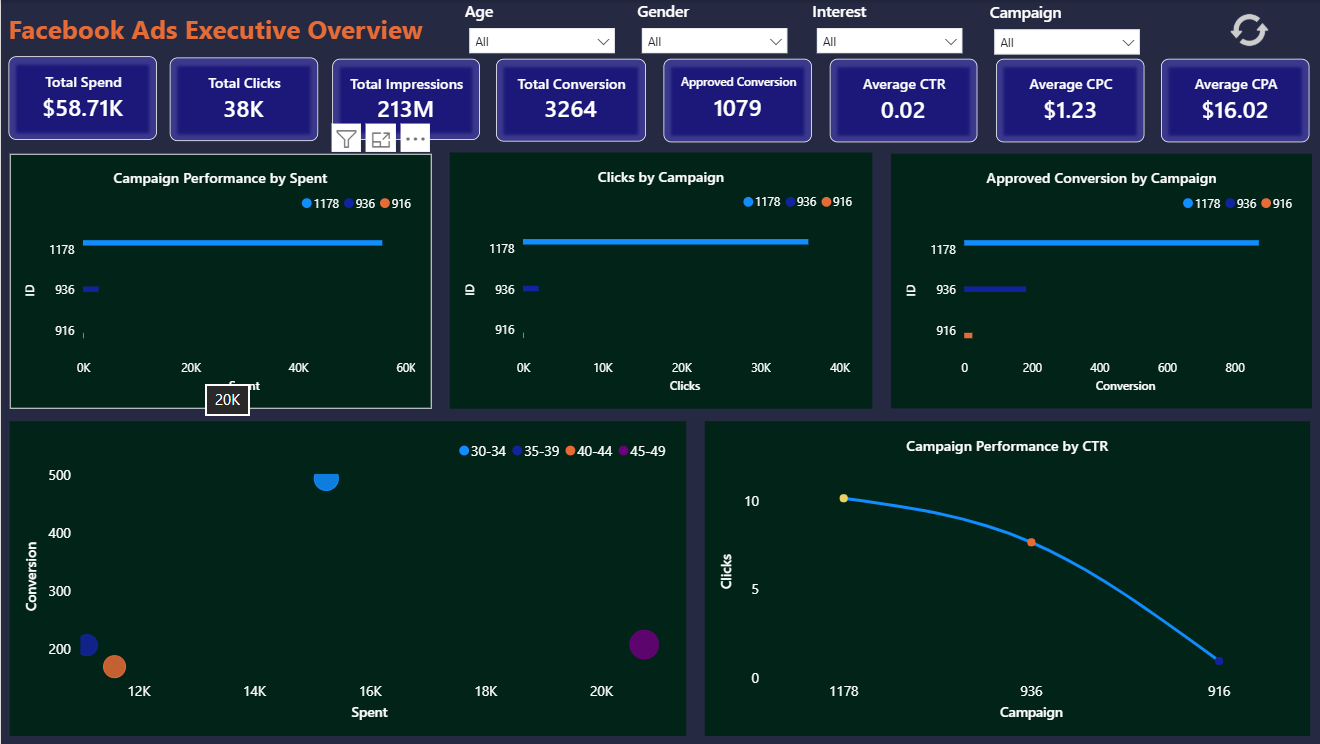

Layout of this report page (visuals, bound fields, positions):
{"tool":"powerbi","page":{"name":"Exceutive Overview","canvas":[1351,764],"ordinal":0},"visuals":[{"type":"card","title":"Total Spend","fields":{"Values":["facebook_ads_feature_engineered.Total Spend"]},"box":[7.7,57.9,152.3,85.8],"z":0},{"type":"card","title":"Approved Conversion","fields":{"Values":["facebook_ads_feature_engineered.Approved Conversions"]},"box":[678.5,60.4,152.3,85.8],"z":1000},{"type":"card","title":"Total Conversion","fields":{"Values":["facebook_ads_feature_engineered.Total Conversion"]},"box":[506.9,60.4,153.6,84.5],"z":2000},{"type":"card","title":"Average CTR","fields":{"Values":["facebook_ads_feature_engineered.Average CTR"]},"box":[848.8,60.4,151.1,85.8],"z":3000},{"type":"card","title":"Total Clicks","fields":{"Values":["facebook_ads_feature_engineered.Total Clicks"]},"box":[172.5,58.6,151.7,85.6],"z":4000},{"type":"card","title":"Total Impressions","fields":{"Values":["facebook_ads_feature_engineered.Total Impressions"]},"box":[339.2,60.4,151.1,83.2],"z":5000},{"type":"card","title":"Average CPC","fields":{"Values":["facebook_ads_feature_engineered.Average CPC"]},"box":[1019,60.4,152.3,85.8],"z":6000},{"type":"card","title":"Average CPA","fields":{"Values":["facebook_ads_feature_engineered.Average CPA"]},"box":[1188,60.4,152.3,85.8],"z":7000},{"type":"clusteredBarChart","title":"Campaign Performance by Spent","fields":{"Category":["facebook_ads_feature_engineered.xyz_campaign_id"],"Y":["Sum(facebook_ads_feature_engineered.spent)"],"Series":["facebook_ads_feature_engineered.xyz_campaign_id"]},"box":[9,157.7,431.4,261.2],"z":8000},{"type":"clusteredBarChart","title":"Clicks by Campaign","fields":{"Category":["facebook_ads_feature_engineered.xyz_campaign_id"],"Series":["facebook_ads_feature_engineered.xyz_campaign_id"],"Y":["Sum(facebook_ads_feature_engineered.clicks)"]},"box":[459.6,156.5,432.7,262.4],"z":9000},{"type":"clusteredBarChart","title":"Approved Conversion by Campaign","fields":{"Category":["facebook_ads_feature_engineered.xyz_campaign_id"],"Series":["facebook_ads_feature_engineered.xyz_campaign_id"],"Y":["Sum(facebook_ads_feature_engineered.Approved_Conversion)"]},"box":[911.5,157.7,431.4,261.2],"z":10000},{"type":"lineChart","title":"Campaign Performance by CTR","fields":{"Category":["facebook_ads_feature_engineered.xyz_campaign_id"],"Y":["Sum(facebook_ads_feature_engineered.CTR)"]},"box":[720.7,431.7,619.6,322.6],"z":11000},{"type":"scatterChart","fields":{"X":["Sum(facebook_ads_feature_engineered.spent)"],"Y":["Sum(facebook_ads_feature_engineered.Approved_Conversion)"],"Size":["Sum(facebook_ads_feature_engineered.clicks)"],"Series":["facebook_ads_feature_engineered.age"]},"box":[9,431.7,692.6,322.6],"z":12000},{"type":"textbox","box":[7.7,11.5,442.9,46.1],"z":13000},{"type":"slicer","title":"Age","fields":{"Values":["facebook_ads_feature_engineered.age"]},"box":[474.9,0,158.7,66.6],"z":14000},{"type":"slicer","title":"Gender","fields":{"Values":["facebook_ads_feature_engineered.Gender_full"]},"box":[651.6,0,158.7,66.6],"z":15000},{"type":"slicer","title":"Interest","fields":{"Values":["facebook_ads_feature_engineered.interest"]},"box":[830.8,0,158.7,66.6],"z":16000},{"type":"slicer","title":"Campaign","fields":{"Values":["facebook_ads_feature_engineered.xyz_campaign_id"]},"box":[1012.6,1.3,158.7,66.6],"z":17000},{"type":"image","box":[1241.8,11.5,74.2,38.4],"z":18000}]}

Visuals, with their boxes in screenshot pixels (x1, y1, x2, y2), scaled from the page's 1351x764 canvas onto the 1320x744 screenshot:
"Total Spend" card: select_region(8, 56, 156, 140)
"Approved Conversion" card: select_region(663, 59, 812, 142)
"Total Conversion" card: select_region(495, 59, 645, 141)
"Average CTR" card: select_region(829, 59, 977, 142)
"Total Clicks" card: select_region(169, 57, 317, 140)
"Total Impressions" card: select_region(331, 59, 479, 140)
"Average CPC" card: select_region(996, 59, 1144, 142)
"Average CPA" card: select_region(1161, 59, 1310, 142)
"Campaign Performance by Spent" clusteredBarChart: select_region(9, 154, 430, 408)
"Clicks by Campaign" clusteredBarChart: select_region(449, 152, 872, 408)
"Approved Conversion by Campaign" clusteredBarChart: select_region(891, 154, 1312, 408)
"Campaign Performance by CTR" lineChart: select_region(704, 420, 1310, 735)
scatterChart - Sum(facebook_ads_feature_engineered.spent) x Sum(facebook_ads_feature_engineered.Approved_Conversion): select_region(9, 420, 686, 735)
textbox: select_region(8, 11, 440, 56)
"Age" slicer: select_region(464, 0, 619, 65)
"Gender" slicer: select_region(637, 0, 792, 65)
"Interest" slicer: select_region(812, 0, 967, 65)
"Campaign" slicer: select_region(989, 1, 1144, 66)
image: select_region(1213, 11, 1286, 49)
